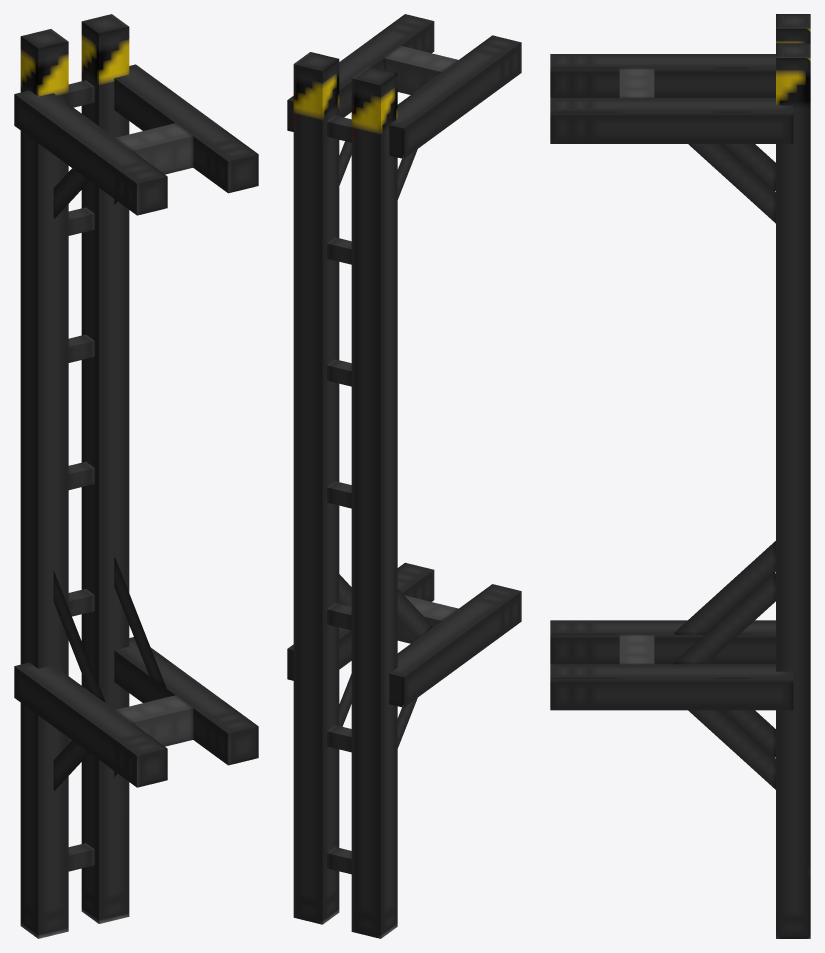
File: abm_erector.obj
3 views of the same model, side by side, from view 1: azimuth 30°, elevation 25°; view 2: azimuth 150°, elevation 25°; view 3: azimuth 270°, elevation 25° (orthographic). The views are drawn at different scales.
Visible parts, largest first — view 1: abm_erector; view 2: abm_erector; view 3: abm_erector.
Boxes of the visible parts, bbox=[...] form: abm_erector: bbox=[14, 14, 258, 938]; abm_erector: bbox=[287, 14, 521, 938]; abm_erector: bbox=[550, 14, 810, 938].
Size of the model in its own units: 1 by 7 by 1.88.
